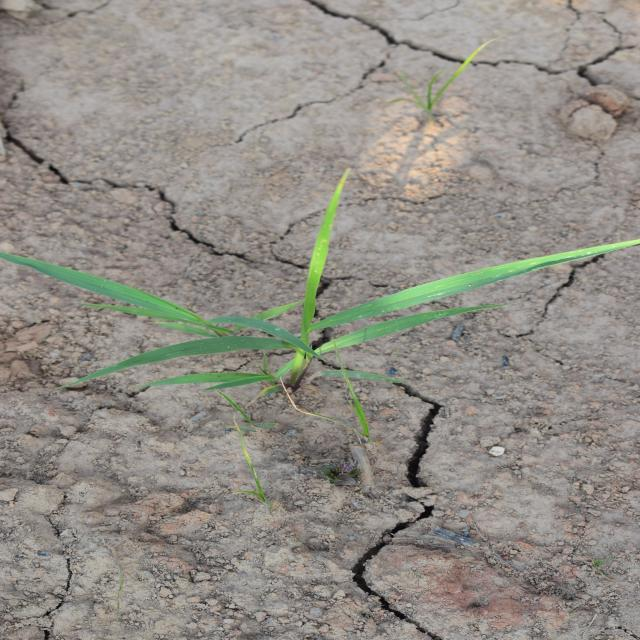green_foxtail: (238, 37, 389, 529)
